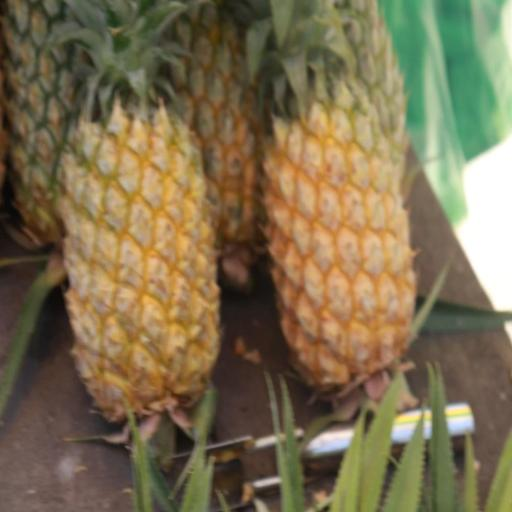Pineapple - v8 v1: (56, 0, 222, 440), (252, 0, 423, 398)
